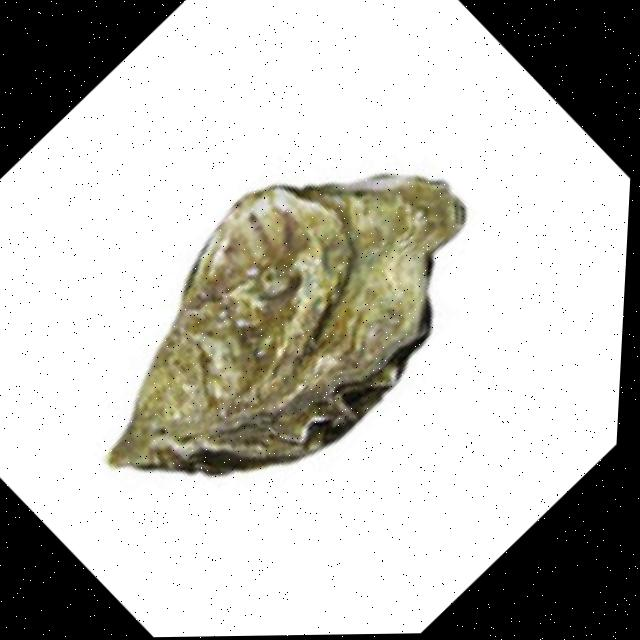Oyster-Closed: (29, 81, 536, 570)
